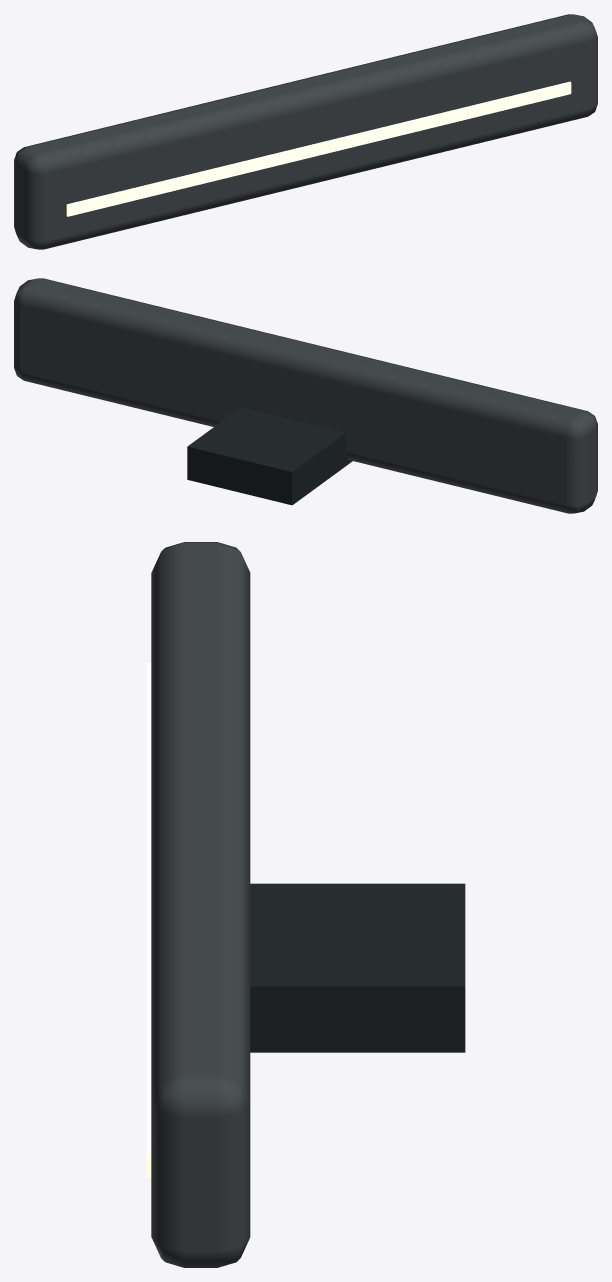
Rendered from acc_monitor_lightbar-8aa015a12866.glb.
3 views of the same model, one above another, from view 1: azimuth 30°, elevation 25°; view 2: azimuth 150°, elevation 25°; view 3: azimuth 270°, elevation 25° (orthographic). The views are drawn at different scales.
Visible parts, largest first — view 1: surface_graphite, surface_lit; view 2: surface_graphite, surface_black; view 3: surface_graphite, surface_black, surface_lit.
Part boxes in pixels (left/top/right/bottom): surface_graphite: left=14, top=14, right=597, bottom=249; surface_lit: left=66, top=81, right=571, bottom=216; surface_graphite: left=14, top=278, right=597, bottom=513; surface_black: left=187, top=407, right=352, bottom=505; surface_graphite: left=151, top=542, right=250, bottom=1267; surface_black: left=250, top=883, right=465, bottom=1052; surface_lit: left=146, top=663, right=151, bottom=1177.
Size of the model in its own units: 0.36 by 0.058 by 0.0868.
